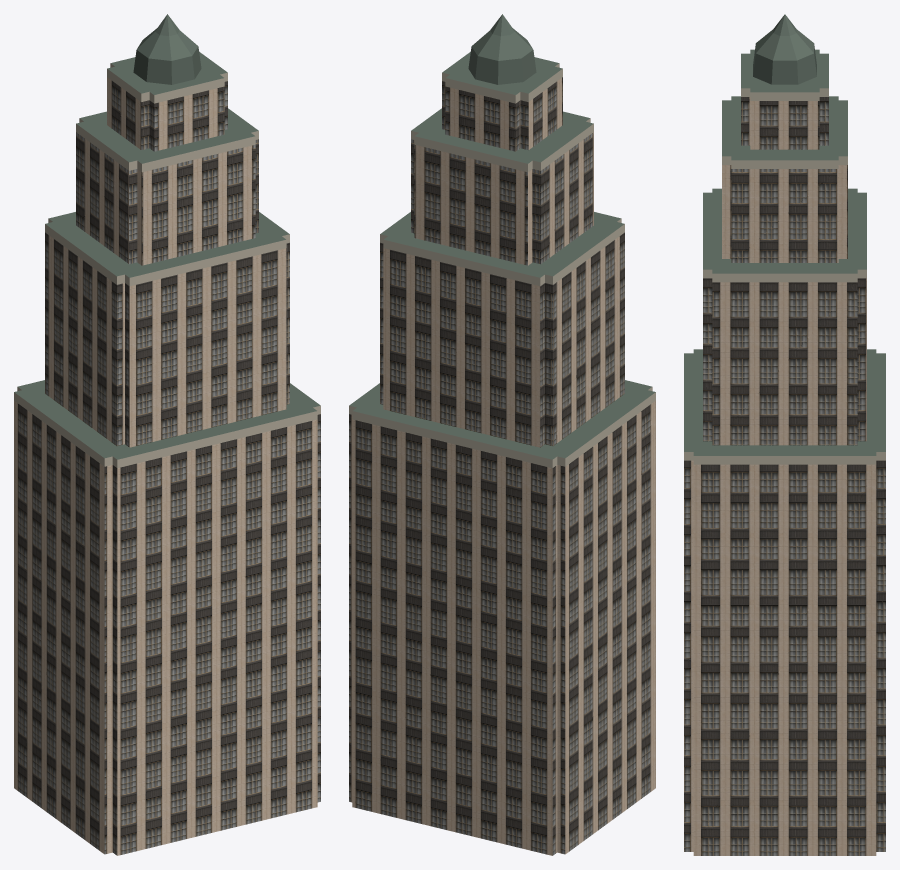
The model's file is gen_mid_deco_setback.glb.
The picture shows the model from 3 angles, left to right: view 1: azimuth 30°, elevation 25°; view 2: azimuth 150°, elevation 25°; view 3: azimuth 270°, elevation 25°; orthographic projection.
Visible parts, largest first — view 1: gen_mid_deco_setback; view 2: gen_mid_deco_setback; view 3: gen_mid_deco_setback.
Part boxes in pixels (<box>): gen_mid_deco_setback: <box>14,14,320,855</box>; gen_mid_deco_setback: <box>349,14,655,855</box>; gen_mid_deco_setback: <box>684,14,885,855</box>.
Bounding box in the file's own units: 40 × 138 × 32.
Materials: 2 (2 with a texture image).
